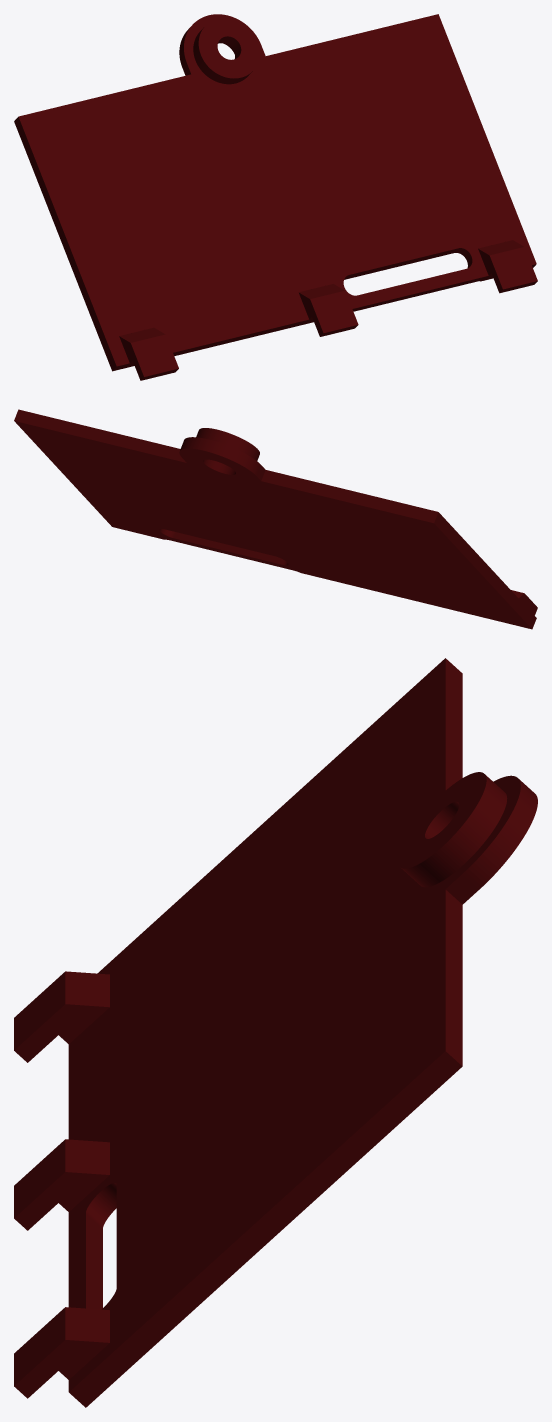
Rendered from PagerCover.glb.
3 views of the same model, one above another, from view 1: azimuth 30°, elevation 25°; view 2: azimuth 150°, elevation 25°; view 3: azimuth 270°, elevation 25° (orthographic). The views are drawn at different scales.
Parts seen in each view (by area): view 1: Mesh_Mesh_head_geo.001_lambert2SG.001; view 2: Mesh_Mesh_head_geo.001_lambert2SG.001; view 3: Mesh_Mesh_head_geo.001_lambert2SG.001.
Boxes of the visible parts, bbox=[...] form: Mesh_Mesh_head_geo.001_lambert2SG.001: bbox=[14, 14, 537, 380]; Mesh_Mesh_head_geo.001_lambert2SG.001: bbox=[14, 409, 537, 629]; Mesh_Mesh_head_geo.001_lambert2SG.001: bbox=[14, 658, 537, 1407].
Size of the model in its own units: 1.73 by 0.891 by 0.9737.
